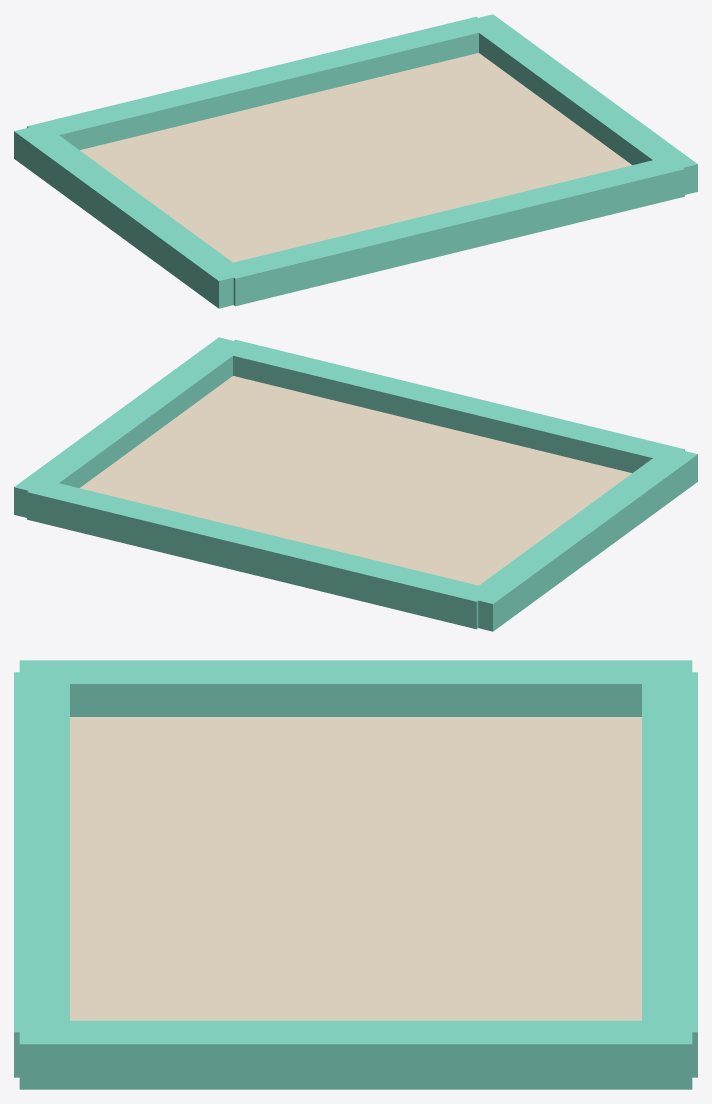
3 views of the same model, one above another, from view 1: azimuth 30°, elevation 25°; view 2: azimuth 150°, elevation 25°; view 3: azimuth 270°, elevation 25° (orthographic). The views are drawn at different scales.
Parts seen in each view (by area): view 1: Tray floor, End lip, End lip.001, Side lip, Side lip.001; view 2: Tray floor, End lip.001, End lip, Side lip, Side lip.001; view 3: Tray floor, Side lip.001, Side lip, End lip, End lip.001.
Part boxes in pixels (x1,y1,x2,y2): Tray floor: [80, 53, 631, 262]; End lip: [219, 156, 684, 306]; End lip.001: [27, 16, 492, 150]; Side lip: [14, 126, 247, 308]; Side lip.001: [464, 14, 697, 194]; Tray floor: [80, 376, 631, 585]; End lip.001: [27, 479, 492, 629]; End lip: [219, 339, 684, 473]; Side lip: [464, 450, 697, 631]; Side lip.001: [14, 337, 247, 517]; Tray floor: [70, 717, 641, 1020]; Side lip.001: [19, 1020, 692, 1089]; Side lip: [19, 660, 692, 716]; End lip: [14, 672, 69, 1077]; End lip.001: [642, 672, 697, 1077].
Size of the model in its own units: 0.4455 by 0.0262 by 0.3355.
Materials: 1 (1 with a texture image).
